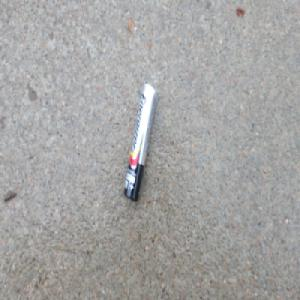Battery: (122, 82, 155, 203)
